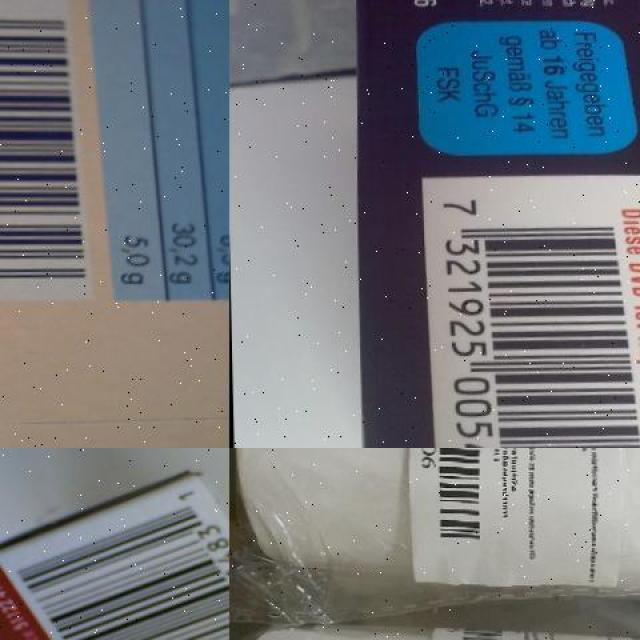Barcode: (420, 167, 640, 448), (0, 458, 229, 640), (0, 0, 92, 304), (411, 448, 496, 556)
